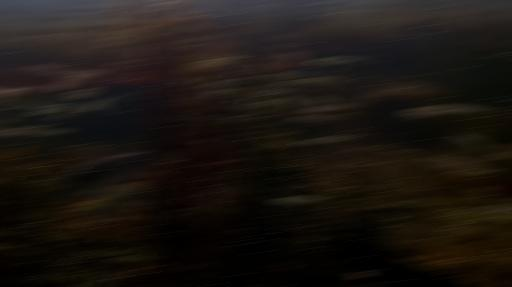Fish: (47, 152, 152, 204), (82, 183, 145, 218), (403, 103, 486, 118), (439, 157, 496, 174), (79, 93, 118, 116), (0, 125, 69, 137), (482, 176, 511, 203), (403, 105, 456, 118), (454, 134, 487, 151), (273, 196, 328, 206), (28, 103, 73, 115), (196, 56, 239, 68), (26, 63, 69, 74), (309, 56, 360, 65), (473, 152, 511, 164), (48, 78, 85, 90), (58, 69, 107, 78), (303, 136, 358, 144), (269, 71, 310, 81), (65, 86, 96, 99), (275, 77, 314, 87), (291, 114, 338, 122), (304, 77, 351, 85), (0, 88, 37, 98), (257, 88, 300, 96), (303, 103, 333, 113), (205, 86, 230, 98), (50, 107, 71, 121), (422, 155, 447, 166), (266, 43, 293, 53), (257, 99, 283, 109), (20, 101, 49, 109), (282, 50, 303, 61), (279, 96, 298, 108), (206, 79, 227, 89), (221, 115, 246, 123), (309, 97, 332, 105), (204, 80, 224, 89), (302, 107, 331, 113), (0, 119, 13, 126), (0, 99, 7, 106), (506, 114, 511, 116)
